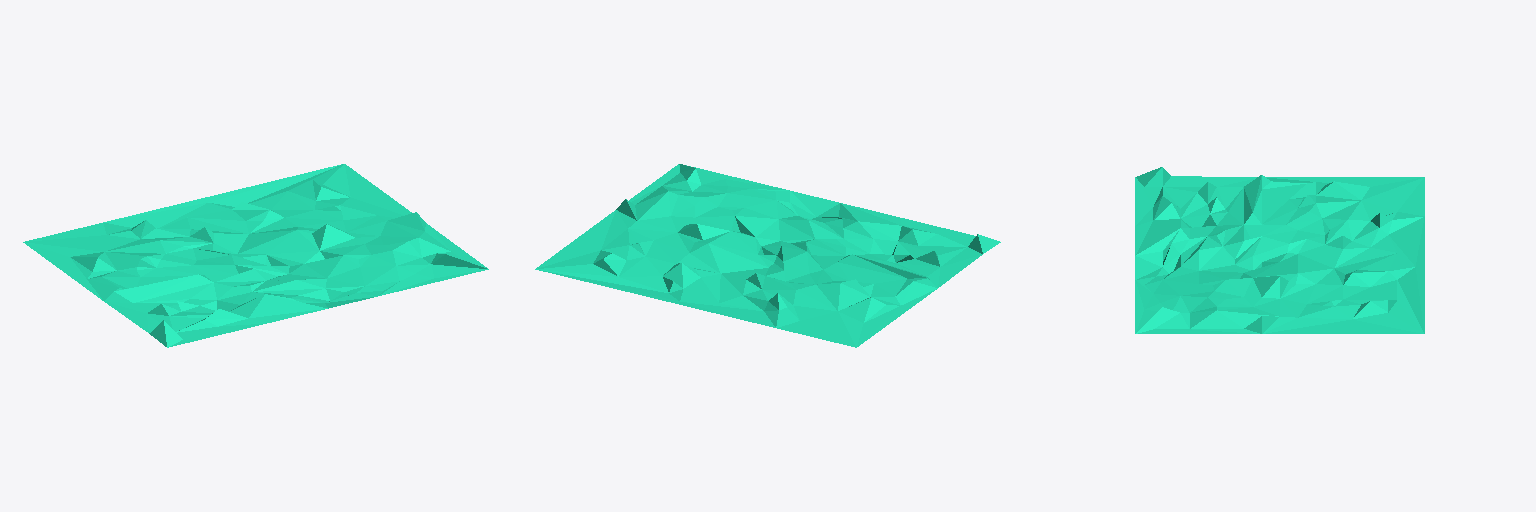
The model's file is Ocean.obj.
3 views of the same model, side by side, from view 1: azimuth 30°, elevation 25°; view 2: azimuth 150°, elevation 25°; view 3: azimuth 270°, elevation 25° (orthographic).
Visible parts, largest first — view 1: Plane002; view 2: Plane002; view 3: Plane002.
Boxes of the visible parts, box(x1,y1,x2,y2) form: Plane002: box(23, 164, 488, 347); Plane002: box(535, 164, 1000, 347); Plane002: box(1135, 167, 1424, 333).
Bounding box in the file's own units: 3779468 × 353274 × 2939398.